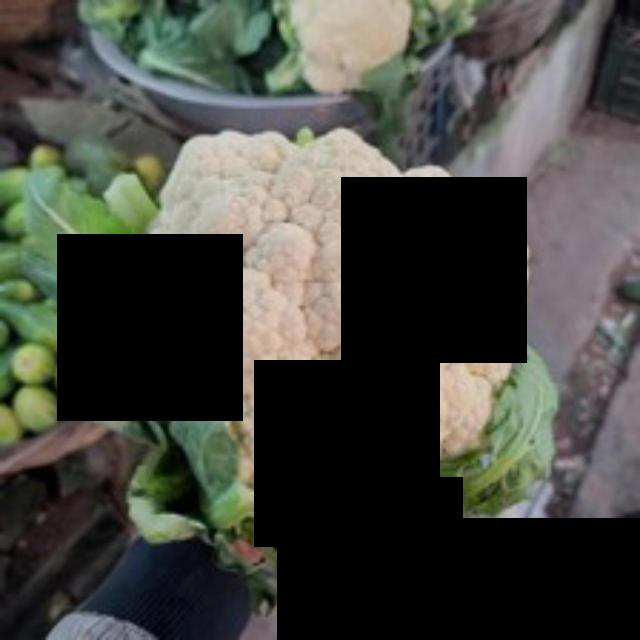cauliflower: (86, 116, 545, 534)
